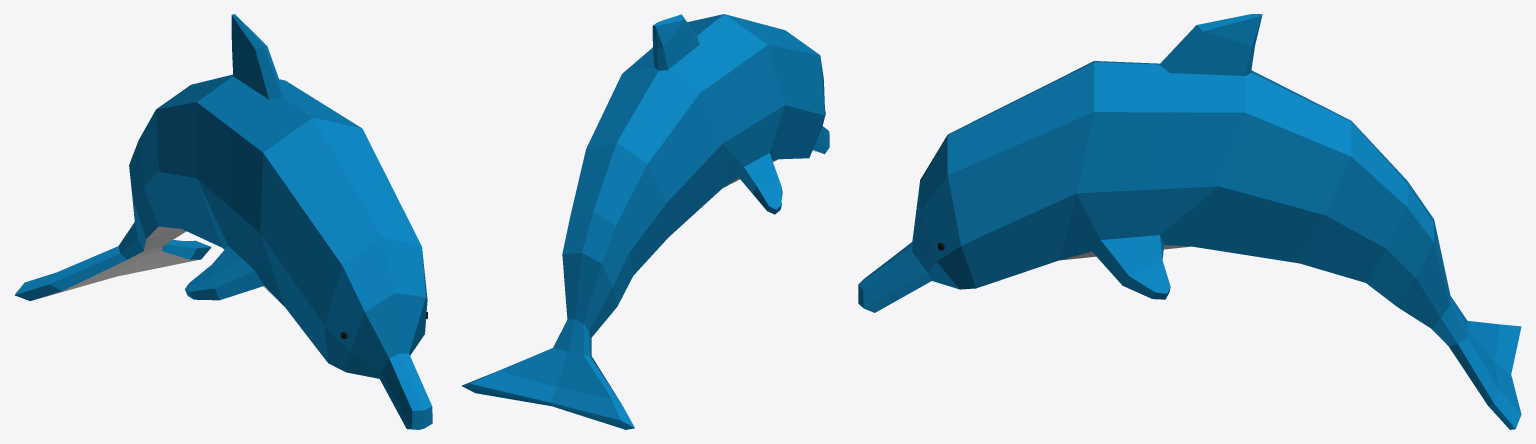
The model's file is Dolphin_01.fbx.
3 renders of one model, left to right at view 1: azimuth 30°, elevation 25°; view 2: azimuth 150°, elevation 25°; view 3: azimuth 270°, elevation 25°, orthographic. The views are drawn at different scales.
Visible parts, largest first — view 1: Dolphin_01; view 2: Dolphin_01; view 3: Dolphin_01.
Part boxes in pixels (bbox=[...]): Dolphin_01: bbox=[14, 14, 432, 429]; Dolphin_01: bbox=[461, 14, 829, 429]; Dolphin_01: bbox=[858, 14, 1521, 429].
Bounding box in the file's own units: 5.79 × 9.88 × 15.96.
